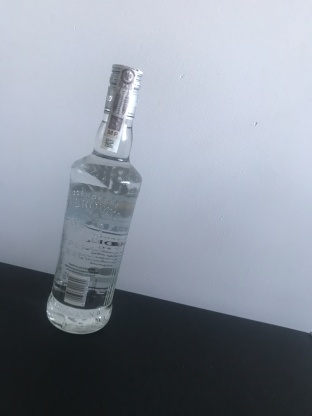nakretka: (101, 60, 144, 123)
